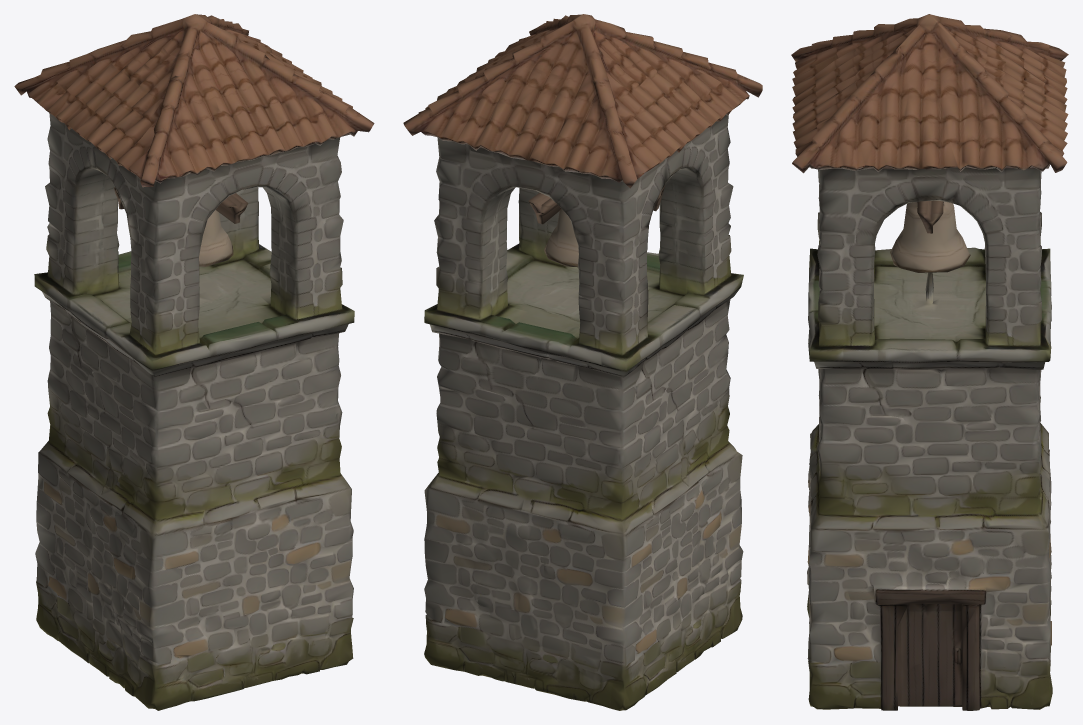
File: 2c4d74b6-2181-4442-b77c-62b6d250e915_model_url.glb
3 renders of one model, left to right at view 1: azimuth 30°, elevation 25°; view 2: azimuth 150°, elevation 25°; view 3: azimuth 270°, elevation 25°, orthographic. The views are drawn at different scales.
Parts seen in each view (by area): view 1: tripo_node_2c4d74b6-2181-4442-b77c-62b6d250e915; view 2: tripo_node_2c4d74b6-2181-4442-b77c-62b6d250e915; view 3: tripo_node_2c4d74b6-2181-4442-b77c-62b6d250e915.
Part boxes in pixels (left/top/right/bottom): tripo_node_2c4d74b6-2181-4442-b77c-62b6d250e915: left=14, top=14, right=374, bottom=710; tripo_node_2c4d74b6-2181-4442-b77c-62b6d250e915: left=403, top=14, right=762, bottom=710; tripo_node_2c4d74b6-2181-4442-b77c-62b6d250e915: left=791, top=14, right=1068, bottom=710.
Bounding box in the file's own units: 0.3882 × 1 × 0.3897.
1 material, 1 textured.
